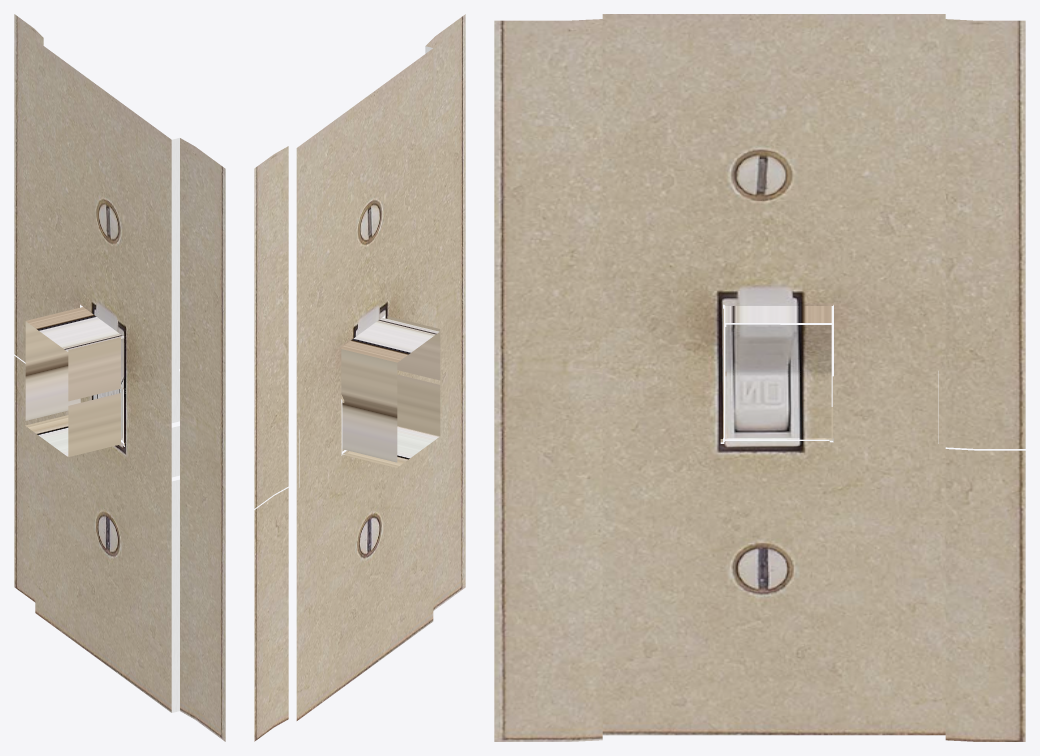
The model's file is interruptor.glb.
The picture shows the model from 3 angles, left to right: view 1: azimuth 30°, elevation 25°; view 2: azimuth 150°, elevation 25°; view 3: azimuth 270°, elevation 25°; orthographic projection. The views are drawn at different scales.
Visible parts, largest first — view 1: Pared6_SwitchTexture_0; view 2: Pared6_SwitchTexture_0; view 3: Pared6_SwitchTexture_0.
Part boxes in pixels (bbox=[...]): Pared6_SwitchTexture_0: bbox=[14, 14, 225, 741]; Pared6_SwitchTexture_0: bbox=[254, 14, 465, 741]; Pared6_SwitchTexture_0: bbox=[494, 14, 1025, 741].
Bounding box in the file's own units: 0.103 × 0.6953 × 0.4642.
Materials: 1 (1 with a texture image).
